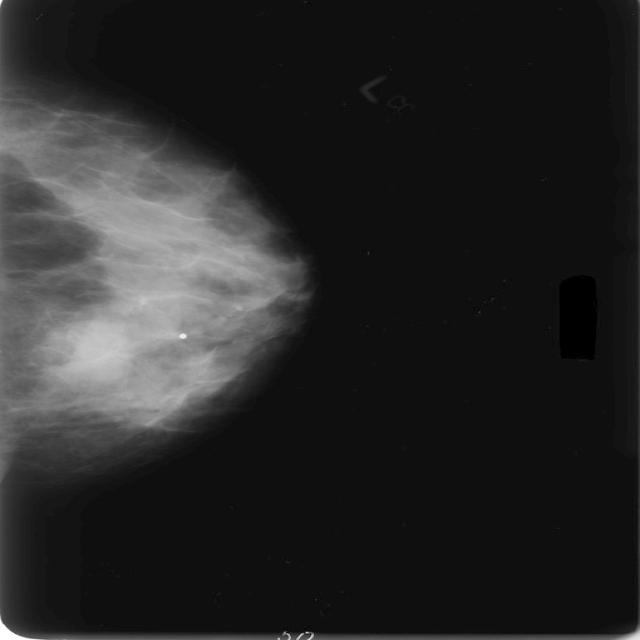tumour: (51, 321, 138, 382)
